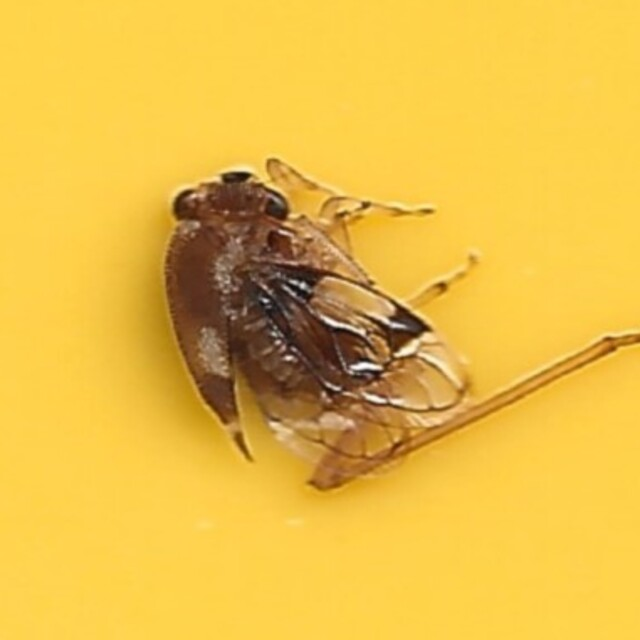Hemiptera: (168, 158, 472, 482)
